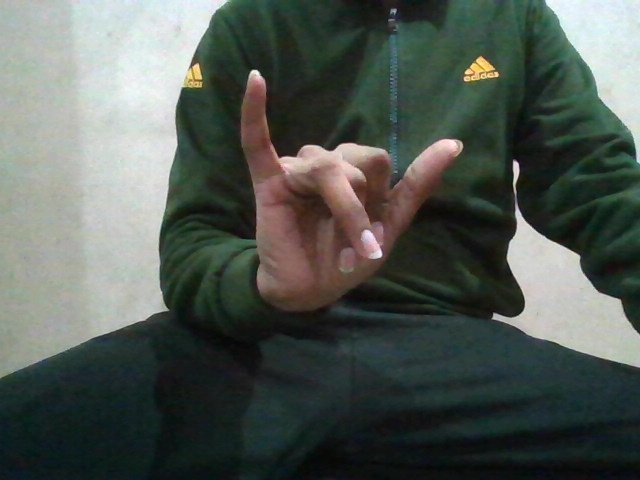Y: (225, 64, 467, 314)
